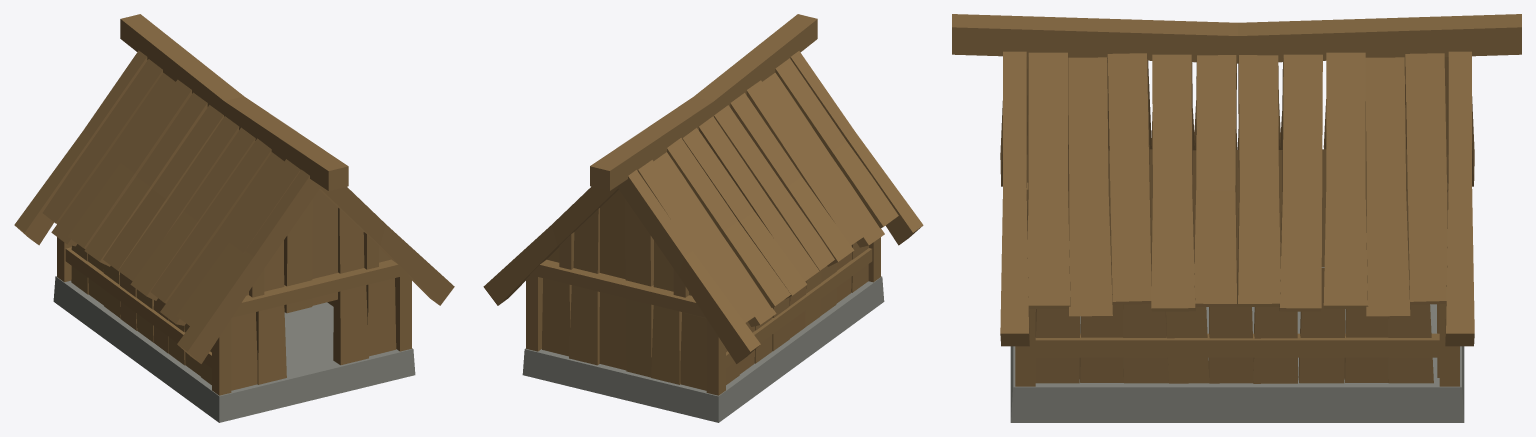
File: quaternius-real-time-strategy-houses-first-age-1-level-3.glb
3 renders of one model, left to right at view 1: azimuth 30°, elevation 25°; view 2: azimuth 150°, elevation 25°; view 3: azimuth 270°, elevation 25°, orthographic. The views are drawn at different scales.
Visible parts, largest first — view 1: Houses_FirstAge_1_Level3; view 2: Houses_FirstAge_1_Level3; view 3: Houses_FirstAge_1_Level3.
Boxes of the visible parts, left/top/right/bottom form: Houses_FirstAge_1_Level3: left=14, top=14, right=454, bottom=422; Houses_FirstAge_1_Level3: left=483, top=14, right=923, bottom=422; Houses_FirstAge_1_Level3: left=952, top=14, right=1521, bottom=422.
Size of the model in its own units: 0.8693 by 0.7645 by 1.17.
